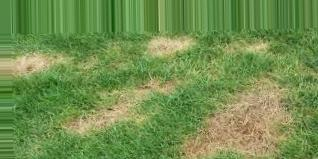patch: (189, 96, 286, 150), (75, 106, 123, 133), (148, 38, 192, 55), (18, 56, 54, 76)
